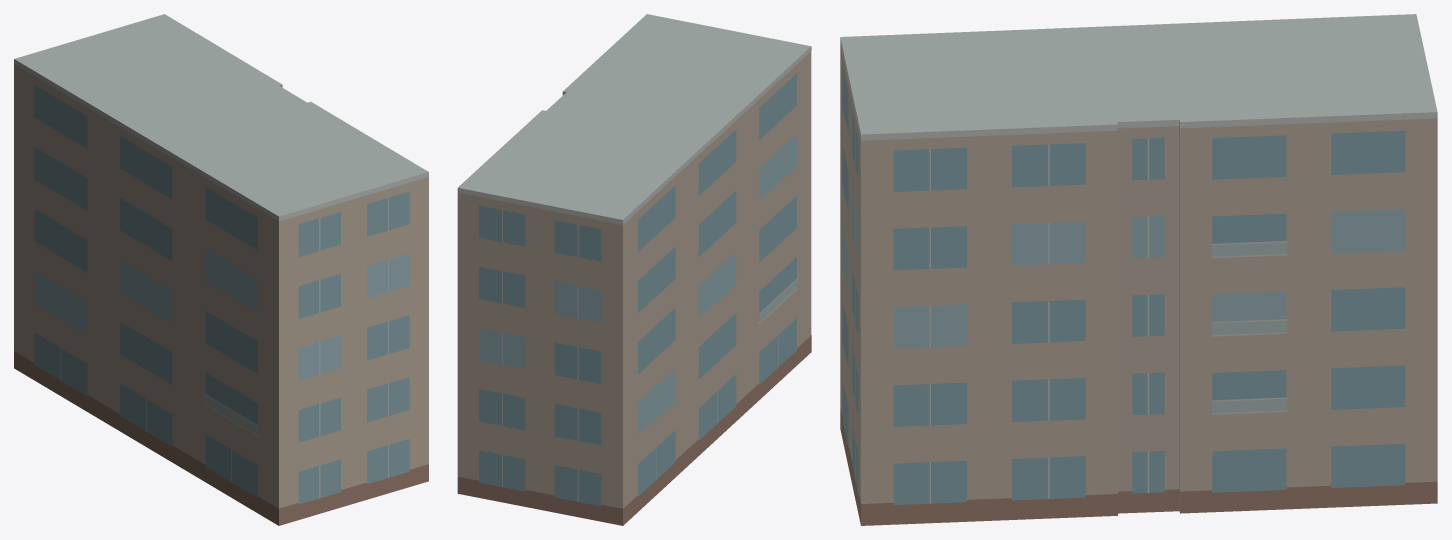
Rendered from survey-upis-32905440.glb.
3 renders of one model, left to right at view 1: azimuth 30°, elevation 25°; view 2: azimuth 150°, elevation 25°; view 3: azimuth 270°, elevation 25°, orthographic. The views are drawn at different scales.
Visible parts, largest first — view 1: survey-upis-32905440.tmp; view 2: survey-upis-32905440.tmp; view 3: survey-upis-32905440.tmp.
Boxes of the visible parts, x1=… form: survey-upis-32905440.tmp: x1=14, y1=14, x2=428, y2=525; survey-upis-32905440.tmp: x1=457, y1=14, x2=811, y2=525; survey-upis-32905440.tmp: x1=840, y1=14, x2=1437, y2=525.
Size of the model in its own units: 10.09 by 15.25 by 21.11.
